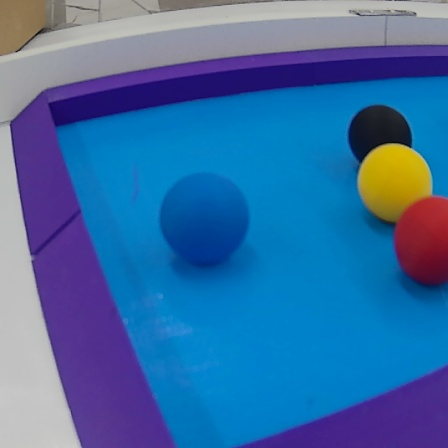black: (342, 101, 416, 174)
blue: (158, 171, 252, 270)
blue_aim: (8, 40, 448, 448)
red: (388, 193, 448, 291)
yellow: (354, 141, 435, 229)
